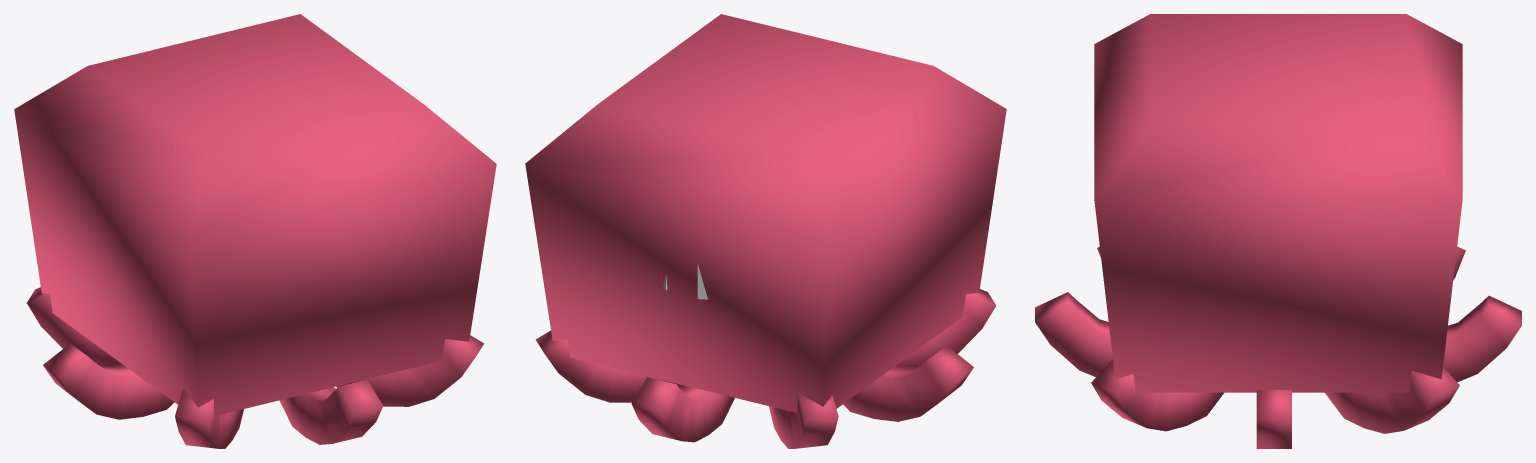
Rendered from BoushiAR.glb.
3 views of the same model, side by side, from view 1: azimuth 30°, elevation 25°; view 2: azimuth 150°, elevation 25°; view 3: azimuth 270°, elevation 25° (orthographic). The views are drawn at different scales.
Visible parts, largest first — view 1: 立方体, 立方体.001; view 2: 立方体, 立方体.001; view 3: 立方体, 立方体.001.
Boxes of the visible parts, x1,y1,x2,y2 form: 立方体: (14, 14, 496, 415); 立方体.001: (27, 287, 484, 448); 立方体: (525, 14, 1006, 412); 立方体.001: (535, 289, 996, 448); 立方体: (1094, 14, 1462, 392); 立方体.001: (1035, 246, 1521, 448).
Size of the model in its own units: 3.01 by 2.12 by 3.01.
